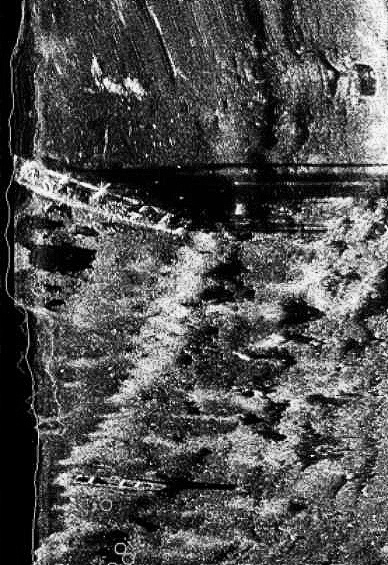ship: (11, 152, 194, 239)
